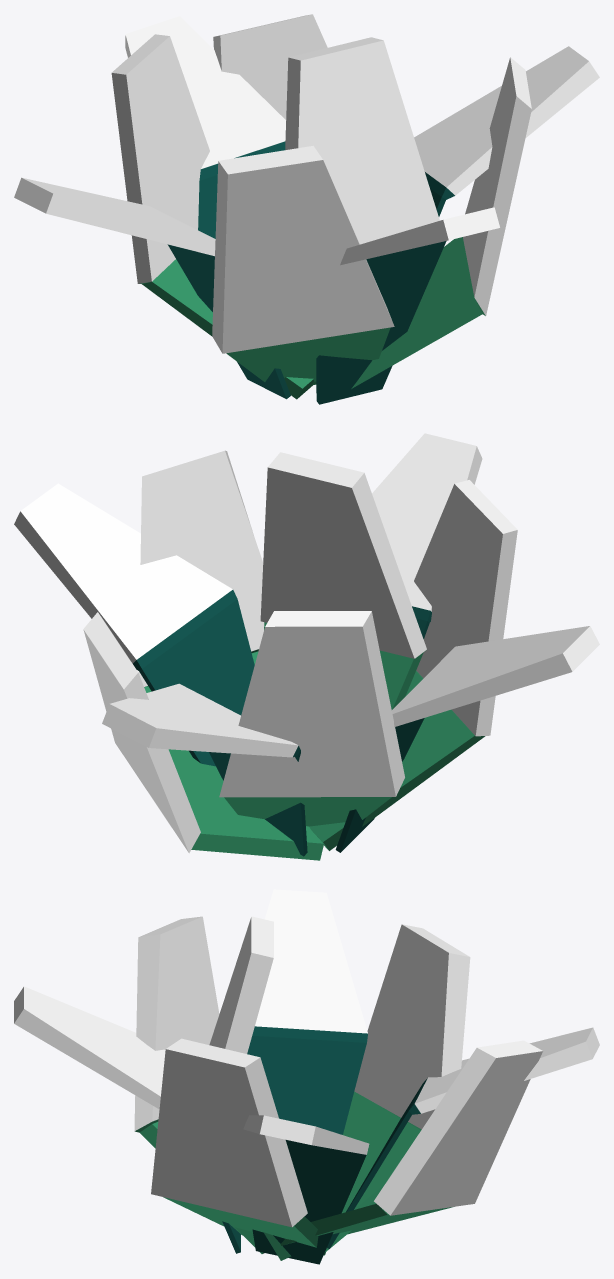
File: grass.glb
3 renders of one model, top to bottom at view 1: azimuth 30°, elevation 25°; view 2: azimuth 150°, elevation 25°; view 3: azimuth 270°, elevation 25°, orthographic. The views are drawn at different scales.
Parts seen in each view (by area): view 1: Mesh_Grass_Inwards, Mesh_Grass_Outwards; view 2: Mesh_Grass_Inwards, Mesh_Grass_Outwards; view 3: Mesh_Grass_Inwards, Mesh_Grass_Outwards.
Part boxes in pixels (bbox=[...]): Mesh_Grass_Inwards: bbox=[111, 14, 531, 399]; Mesh_Grass_Outwards: bbox=[14, 16, 599, 404]; Mesh_Grass_Inwards: bbox=[83, 450, 517, 860]; Mesh_Grass_Outwards: bbox=[14, 433, 599, 856]; Mesh_Grass_Inwards: bbox=[134, 916, 542, 1260]; Mesh_Grass_Outwards: bbox=[14, 889, 599, 1264].
Size of the model in its own units: 0.2823 by 0.1737 by 0.2858.
Materials: 1 (1 with a texture image).
